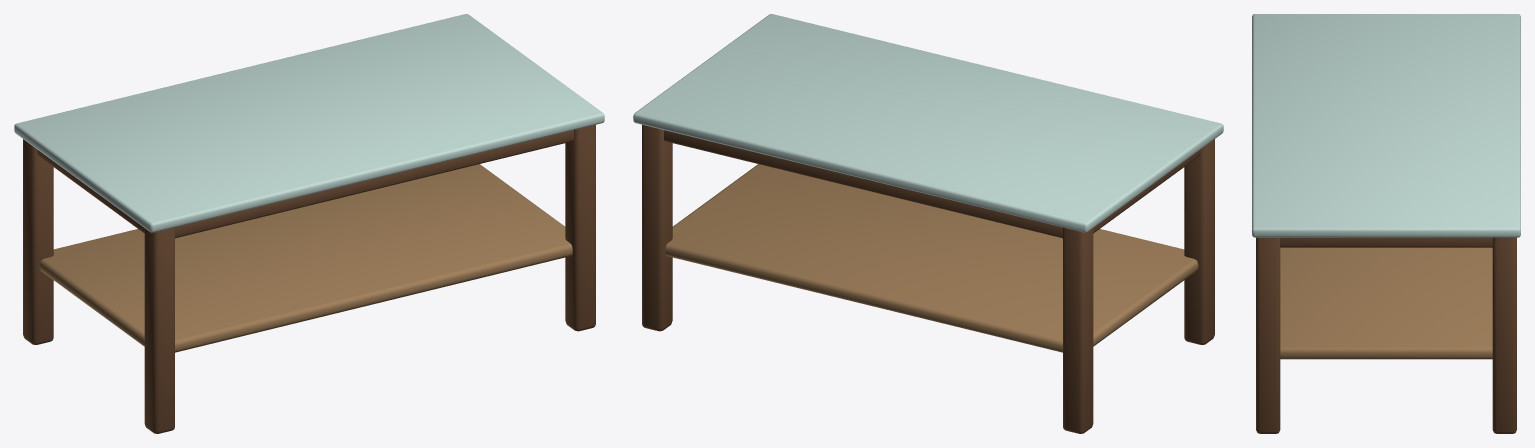
Rendered from teapoy.glb.
3 renders of one model, left to right at view 1: azimuth 30°, elevation 25°; view 2: azimuth 150°, elevation 25°; view 3: azimuth 270°, elevation 25°, orthographic. The views are drawn at different scales.
Parts seen in each view (by area): view 1: teapoy.001; view 2: teapoy.001; view 3: teapoy.001.
Part boxes in pixels (x1=…): teapoy.001: x1=14, y1=14, x2=604, y2=433; teapoy.001: x1=633, y1=14, x2=1223, y2=433; teapoy.001: x1=1252, y1=14, x2=1520, y2=433.
Bounding box in the file's own units: 0.95 × 0.43 × 0.5.
